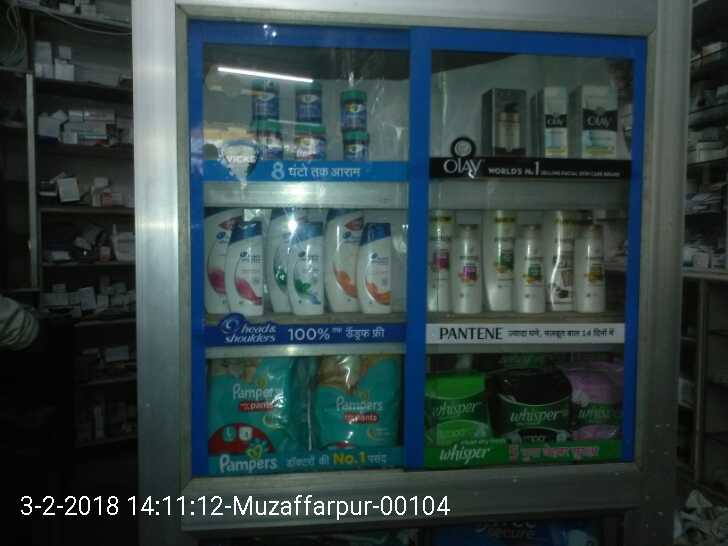vicks: (249, 71, 374, 159)
